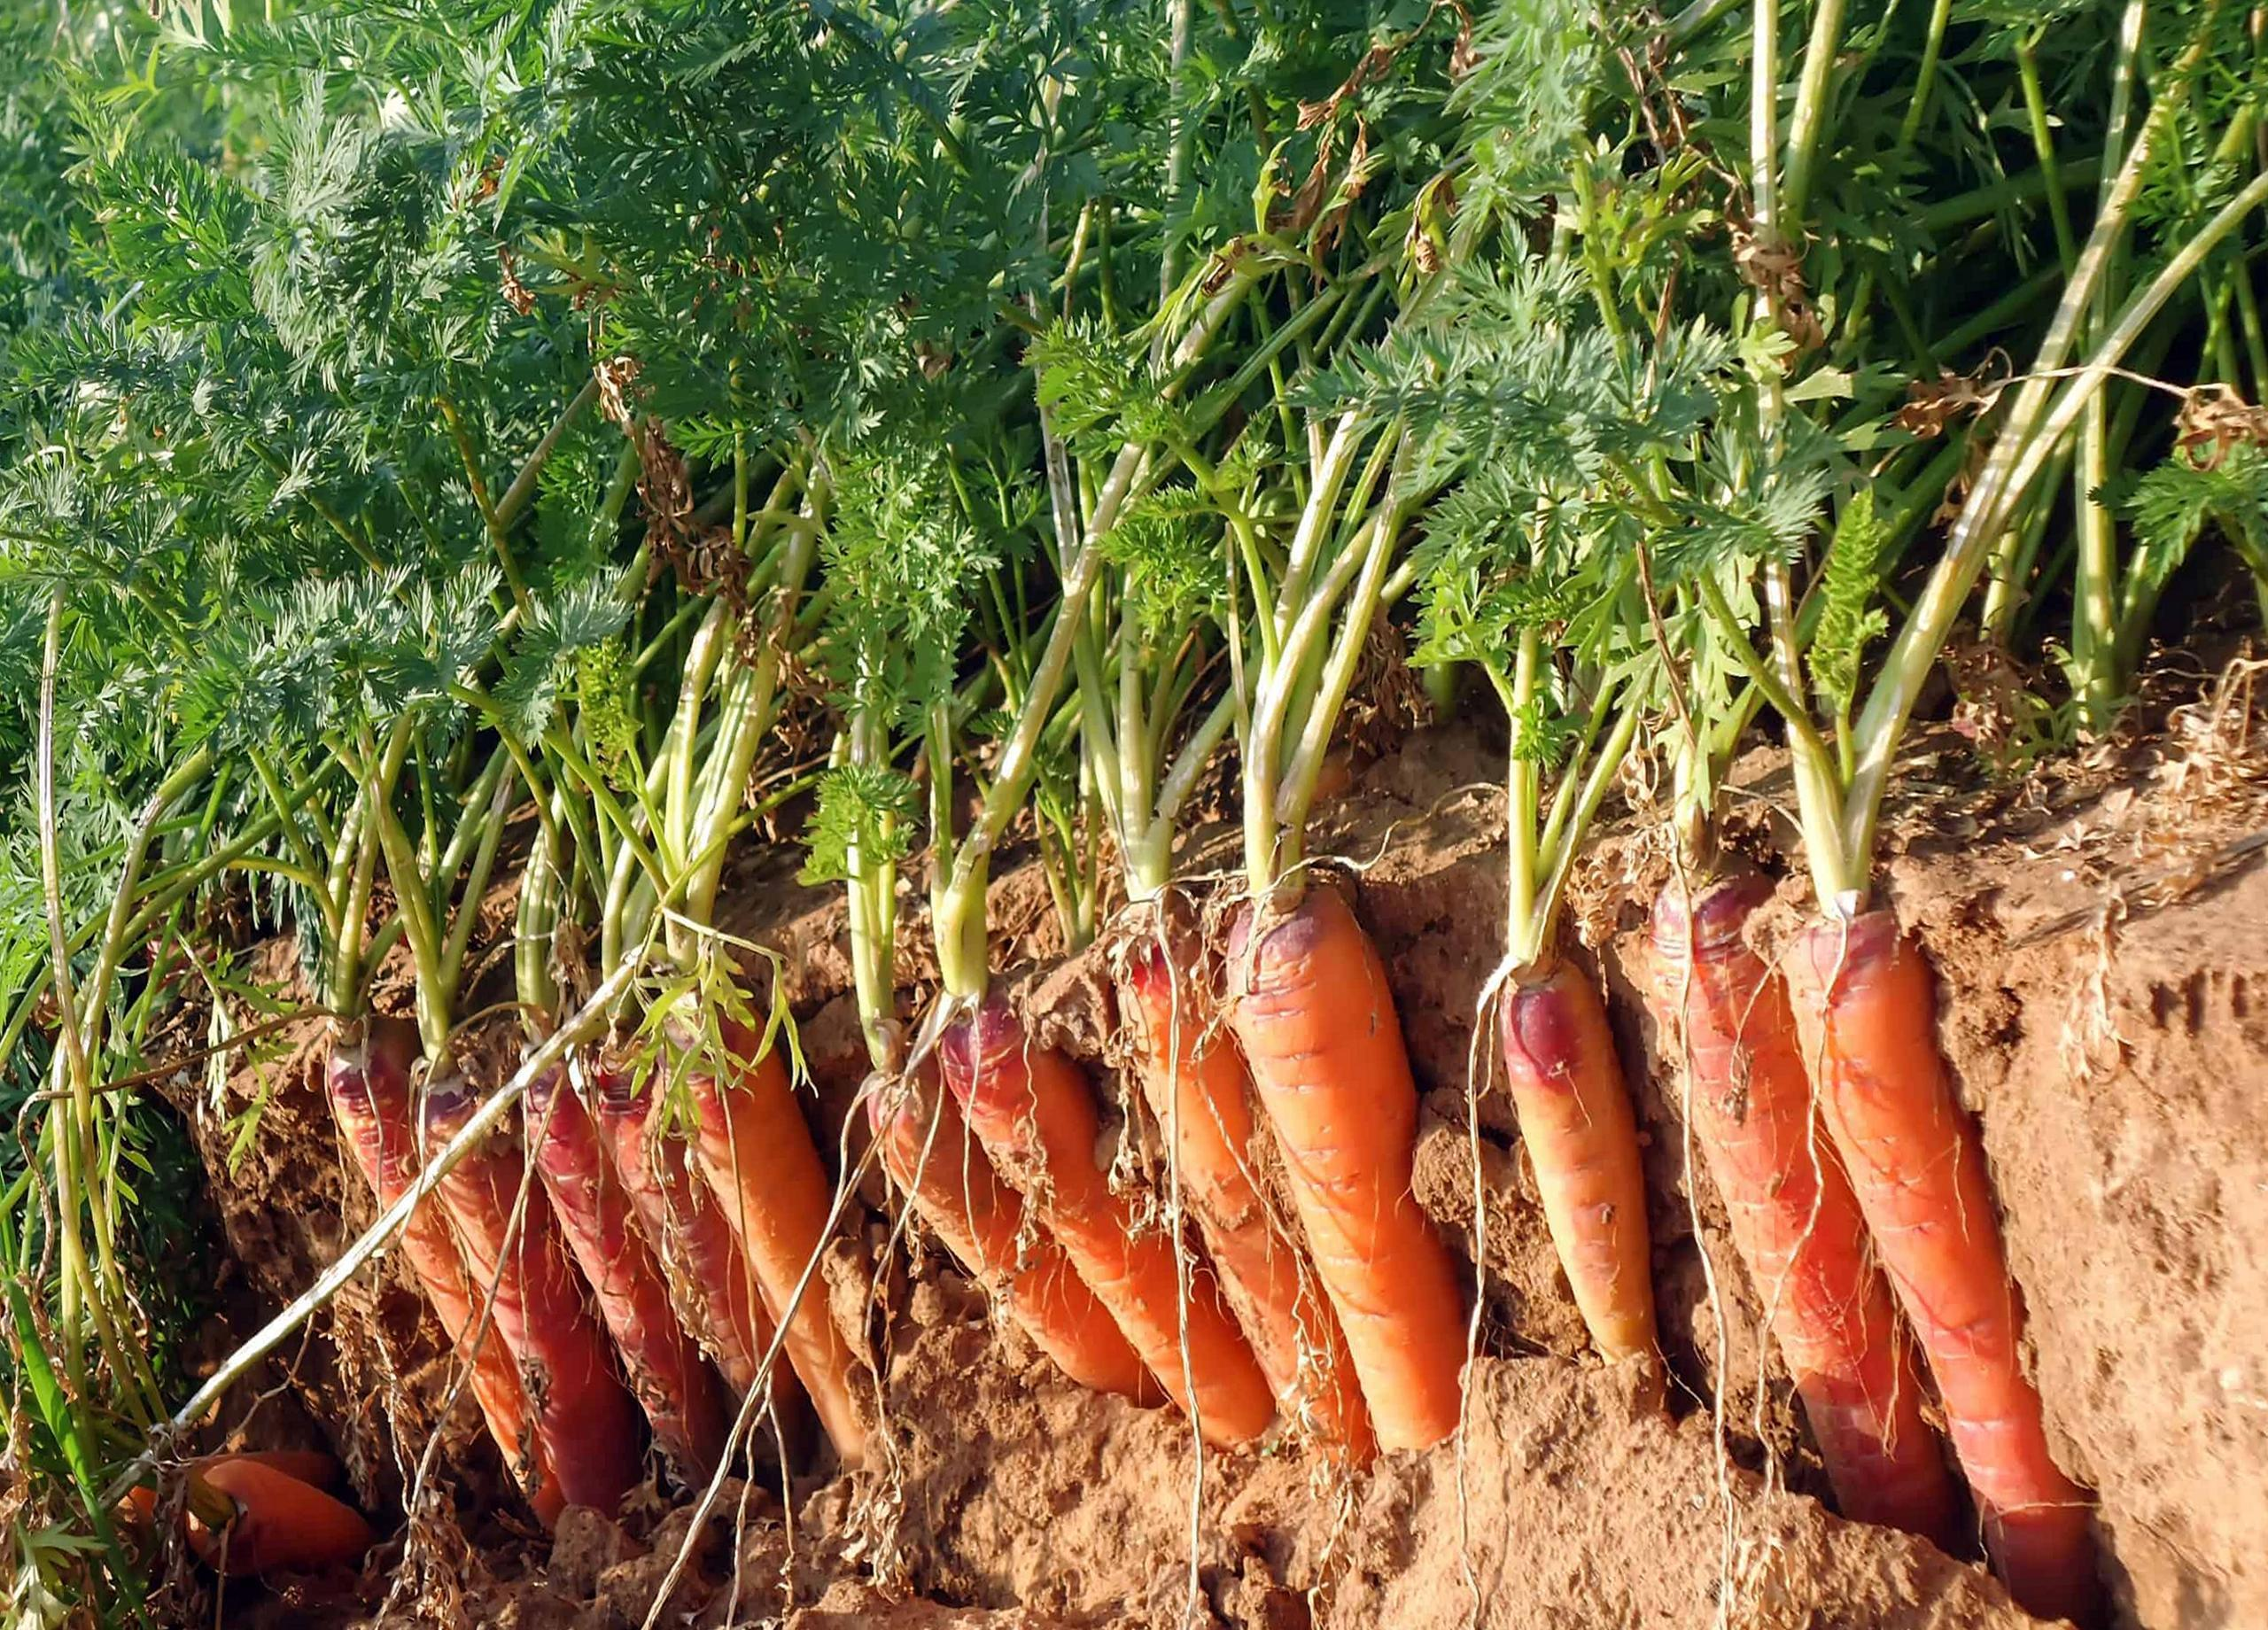carrot: (326, 1061, 2057, 1524), (1476, 935, 2071, 1574), (849, 979, 1451, 1435), (317, 1030, 845, 1500)
